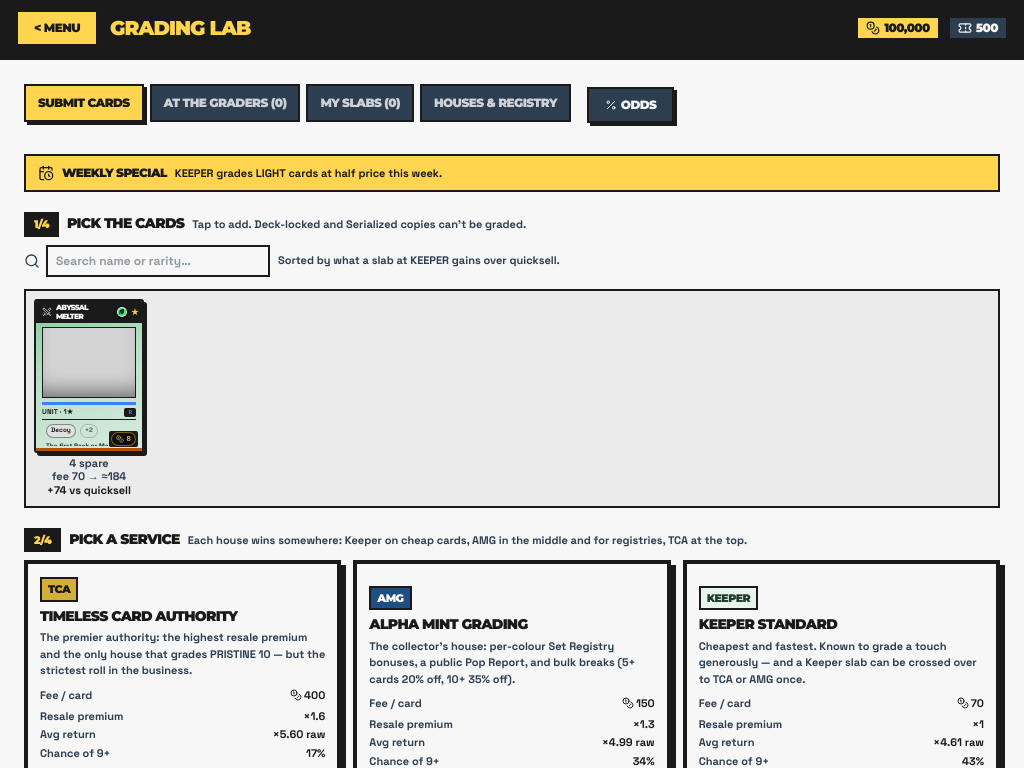
summary bar › is absent for an empty tray and then reads "N CARDS · SERVICE · fee"
Expected: the tab "AT THE GRADERS (0)" is shown, [150,84,300,122]
Click the button with aria-label "Abyssal Melter, Unit · 1★, tier 1": (89, 376) [34,298,144,452]
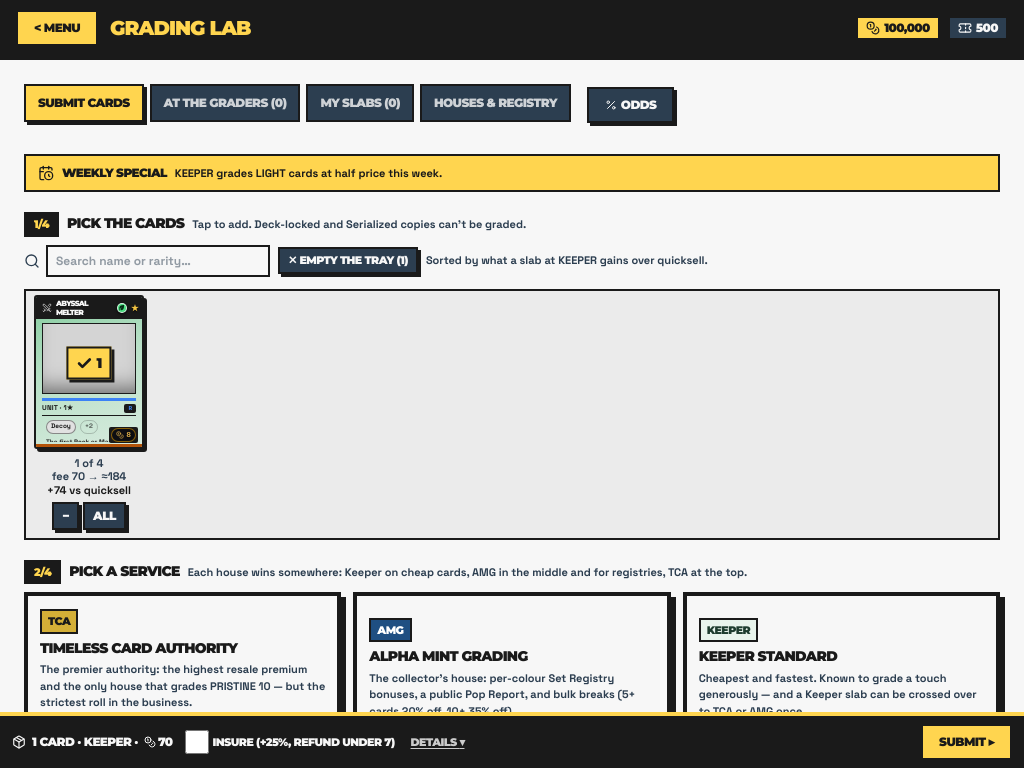
Click the button with aria-label "Abyssal Melter, Unit · 1★, tier 1": (89, 372) [34,294,144,448]
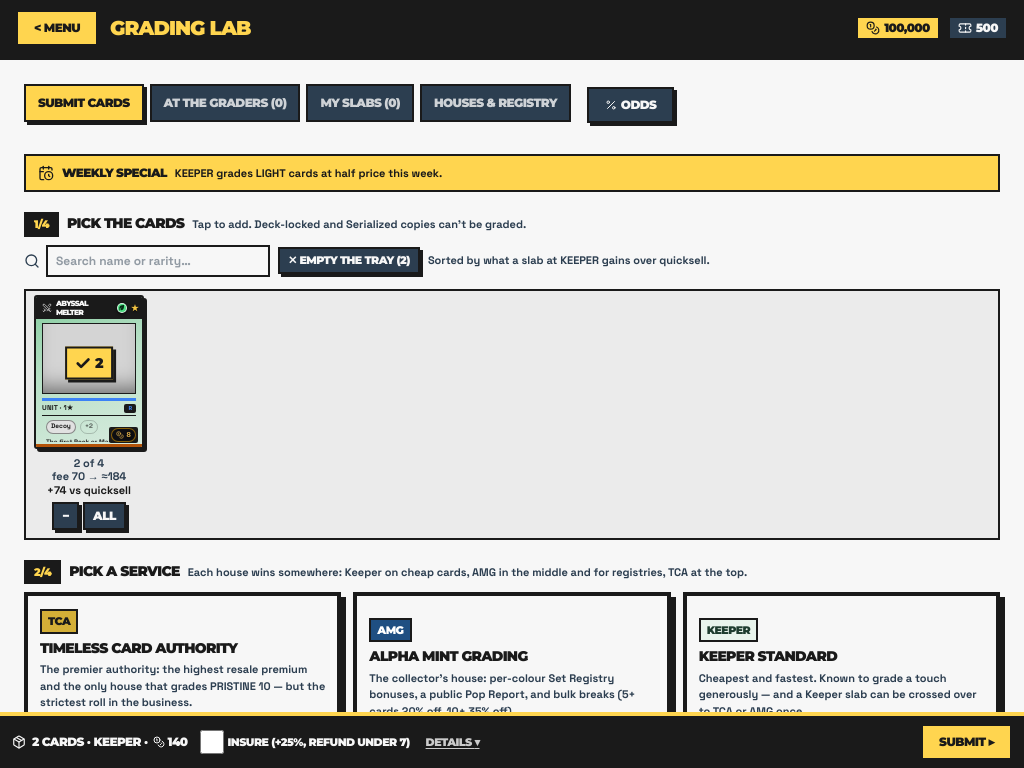
Click the button with aria-label "Abyssal Melter, Unit · 1★, tier 1": (89, 372) [34,294,144,448]
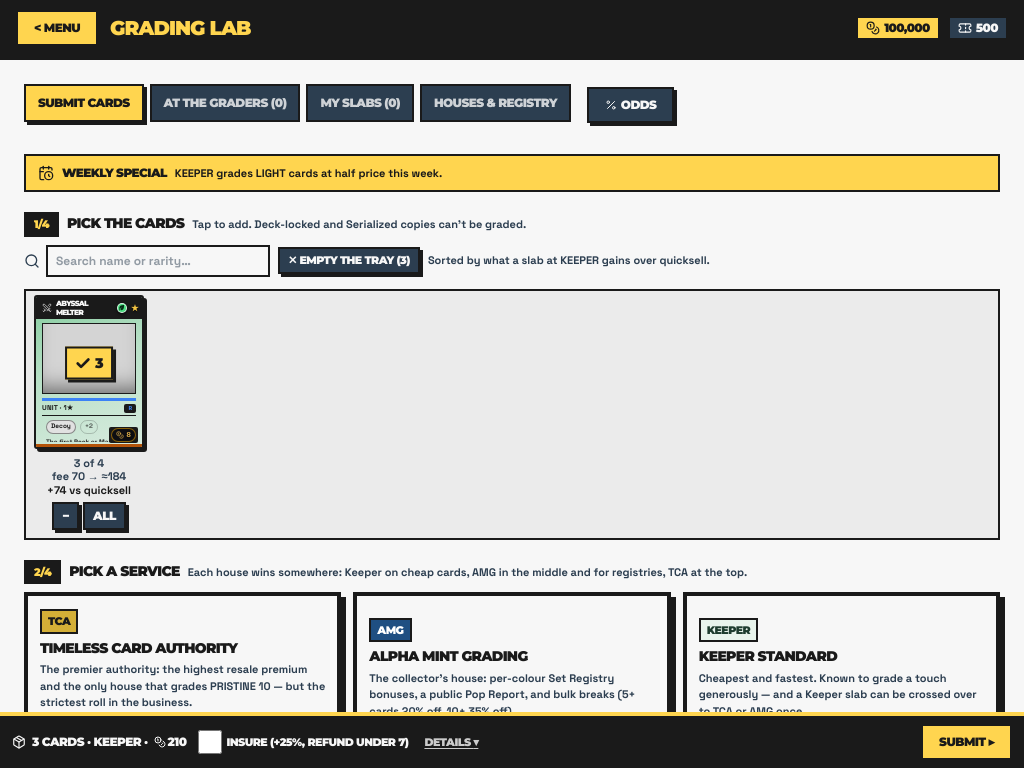
Expected: the button "SUBMIT ▸" is enabled, [921,724,1012,760]
Expected: the element "SUBMIT" shows "3 CARDS · KEEPER ·", [0,712,1023,767]
